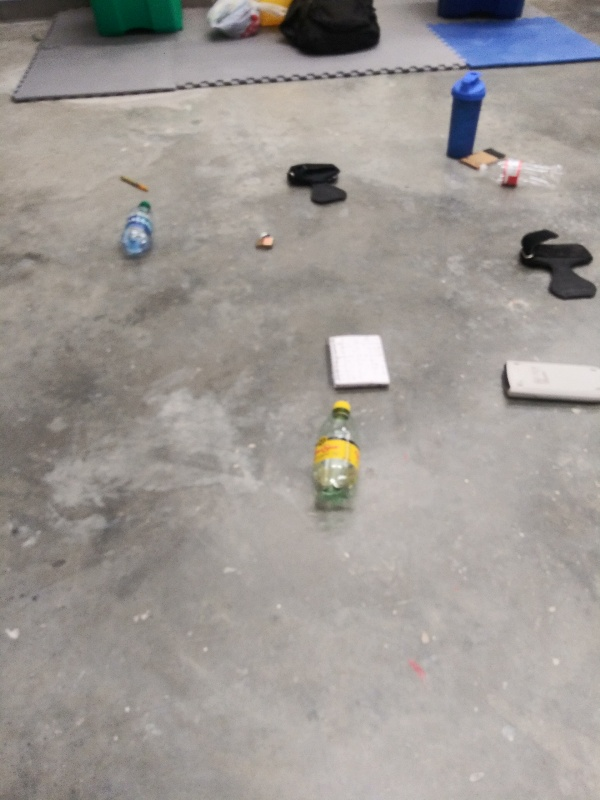bottle: (308, 394, 364, 516), (474, 155, 573, 201), (119, 196, 160, 263)
